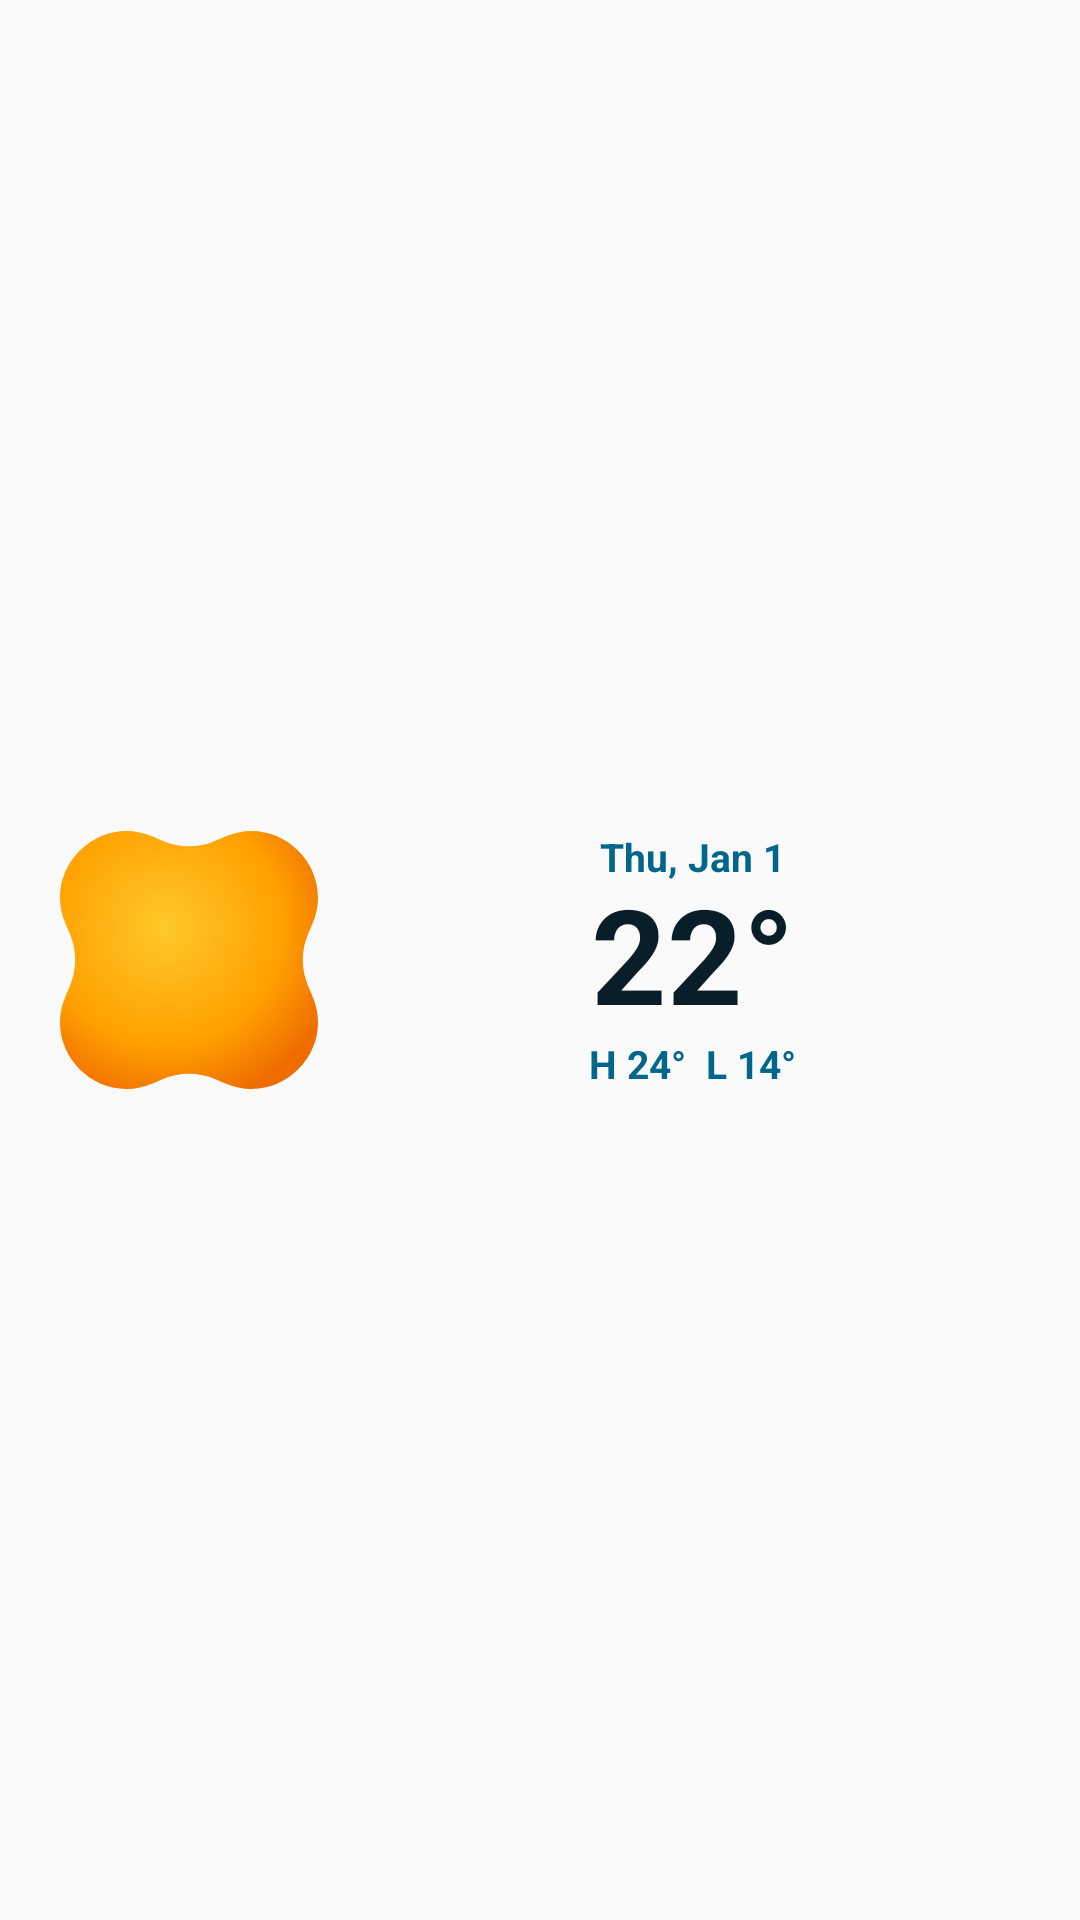

Icons on this 1080x1920 Android screen, each with its box as (x1, y1, x2, y2):
weather sun scalloped: (60, 831, 318, 1089)
